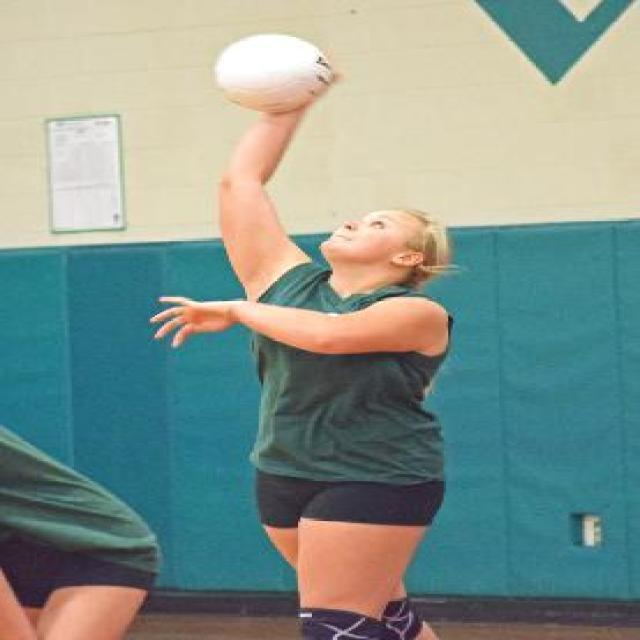volleyball: (215, 34, 330, 114)
